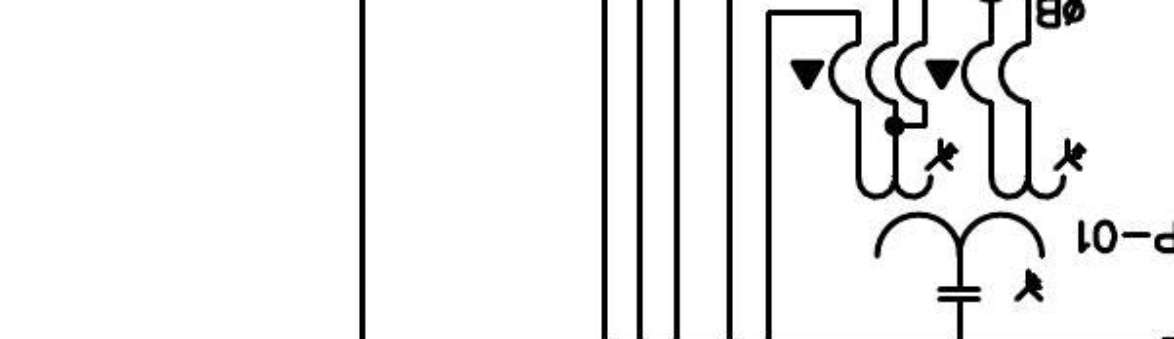115_cvt_3p: (854, 136, 1089, 303)
